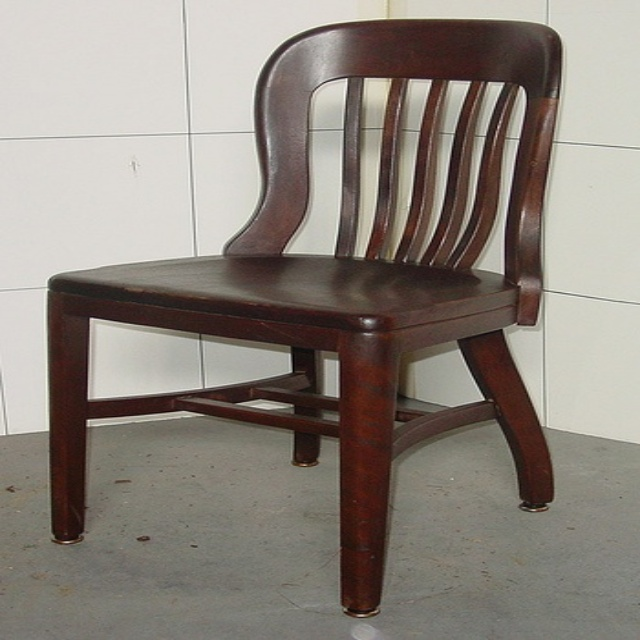obstacle: (48, 19, 560, 616)
